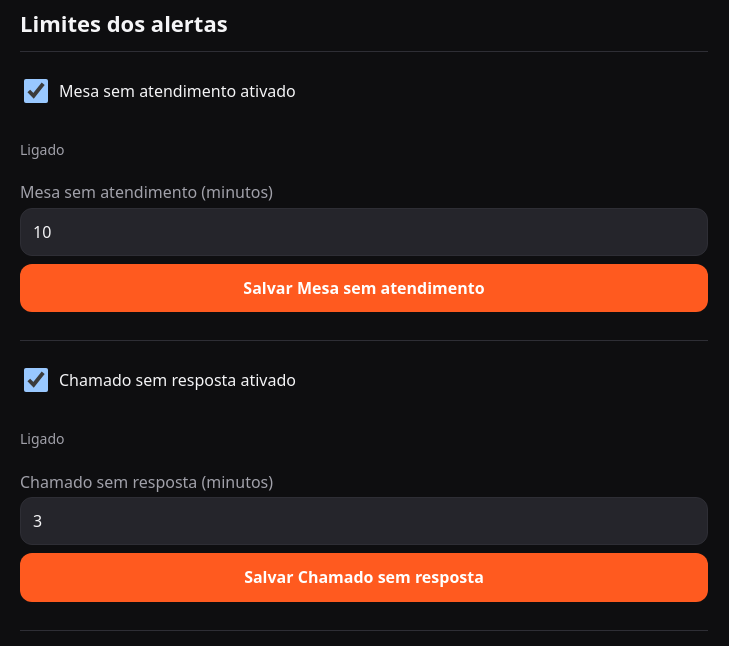
Scenario: Limites dos alertas › campo vazio não chama a API
The width and height of the screenshot is (729, 646).
Clear the field labelled "Mesa sem atendimento (minutos)": (364,232) left=20, top=208, right=708, bottom=256
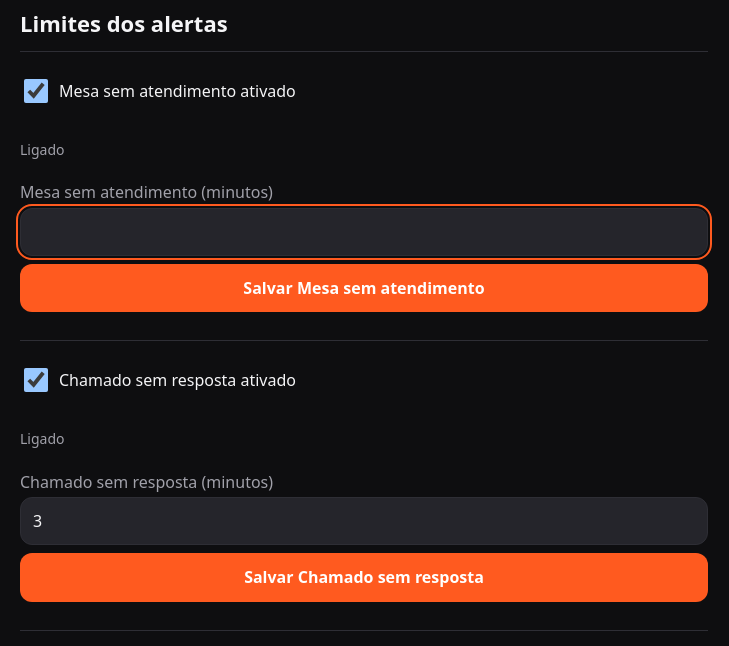
Click the button "Salvar Mesa sem atendimento": (364,288) left=20, top=264, right=708, bottom=312
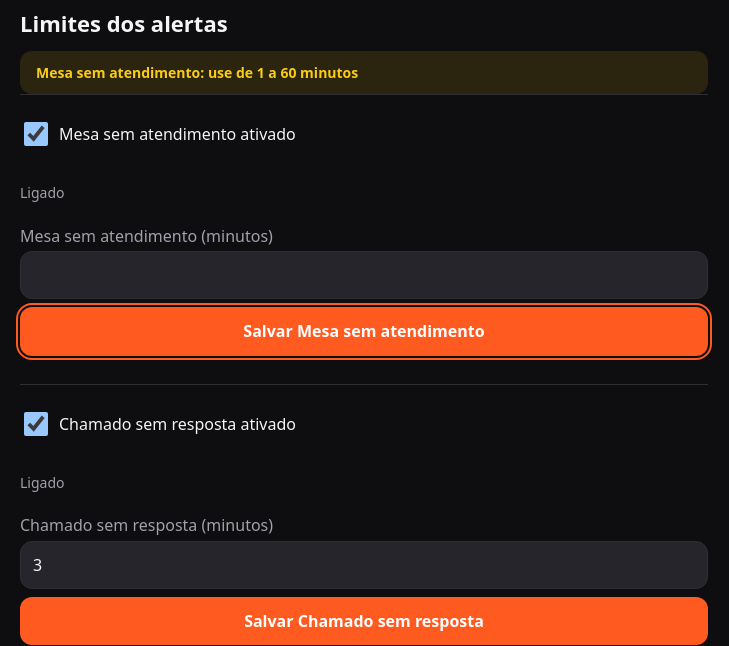
Check: the message "Mesa sem atendimento: use de 1 a 60 minutos" is shown, box left=20, top=51, right=708, bottom=94
